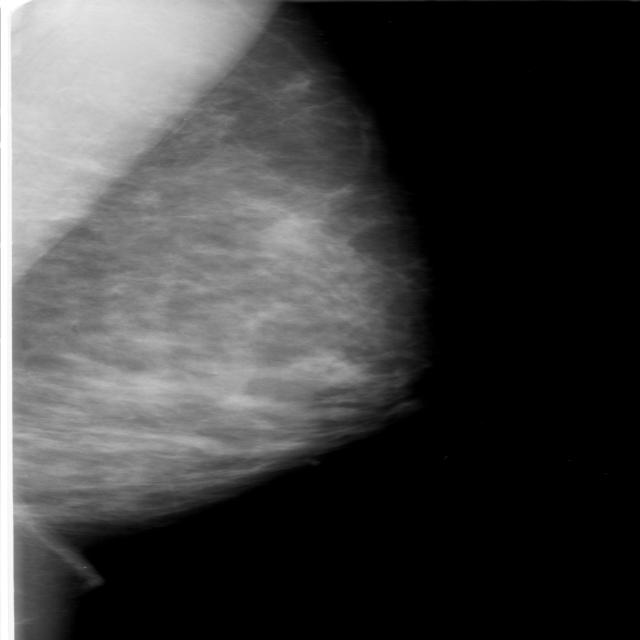normal: (0, 16, 463, 572)
